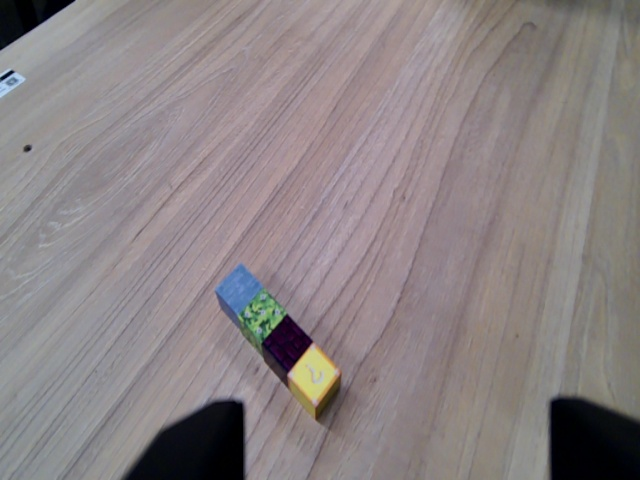brick: (293, 318, 328, 375)
grass: (259, 289, 301, 331)
lucky: (298, 353, 335, 401)
stone: (231, 263, 265, 301)
